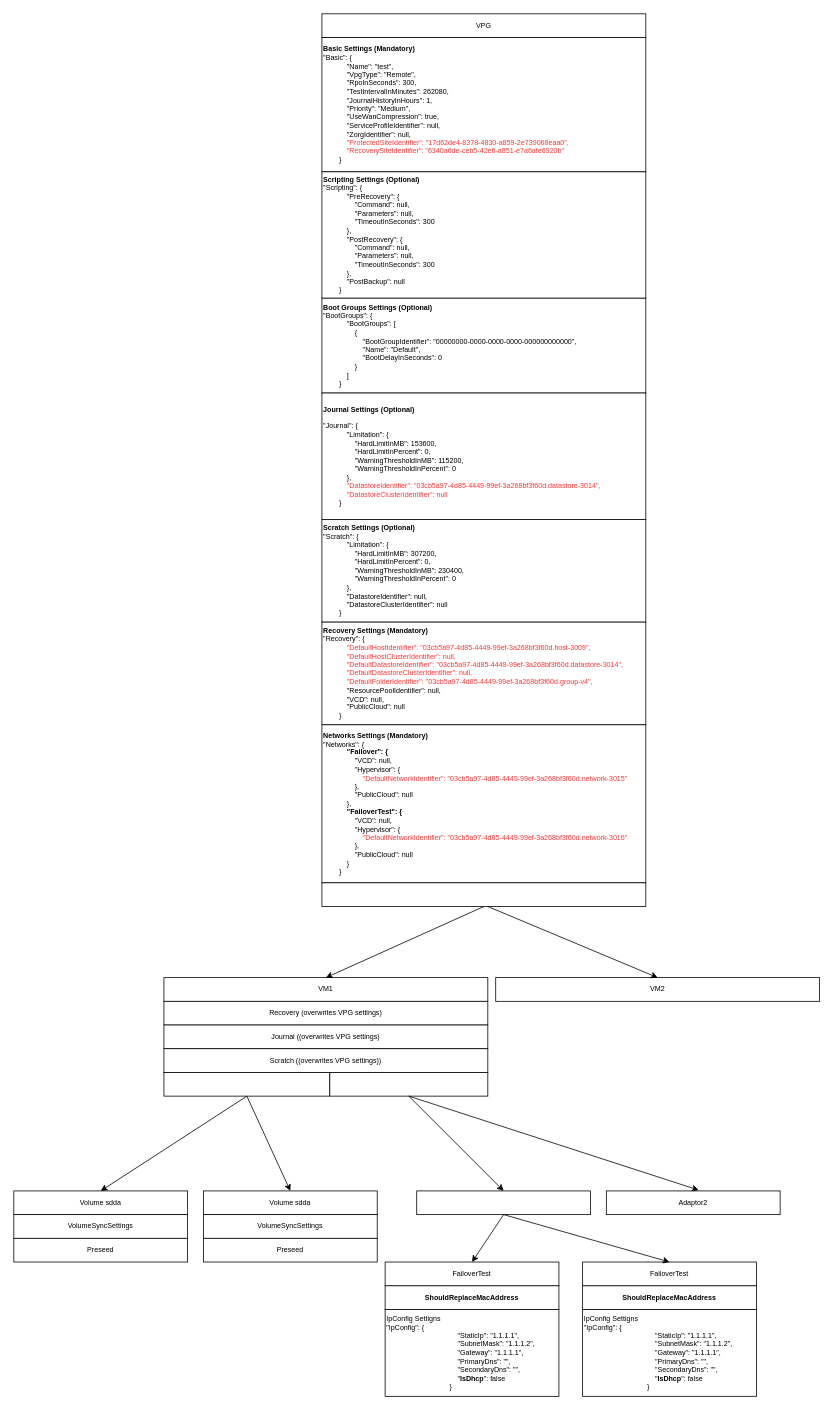
The diagram is 833 pixels wide and 1410 high, and some of its shapes have lost their labels. Each missing label, with the centre of its shape:
"Adaptor1" goes at [503,1202].
"NICS" goes at [408,1084].
"VMS" goes at [483,894].
"Volumes" goes at [246,1084].
